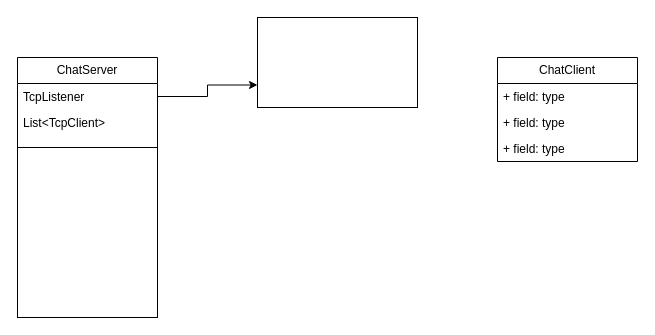
This 655x335 diagram has some shape labels left out. Each missing label, with the centre of its shape:
"Program + field: Type + Main(string[] args): Static Main" belongs at pixel 337 62.
"StartListening(void) ClientHandler(void) WriteMessage(void)" belongs at pixel 87 232.
